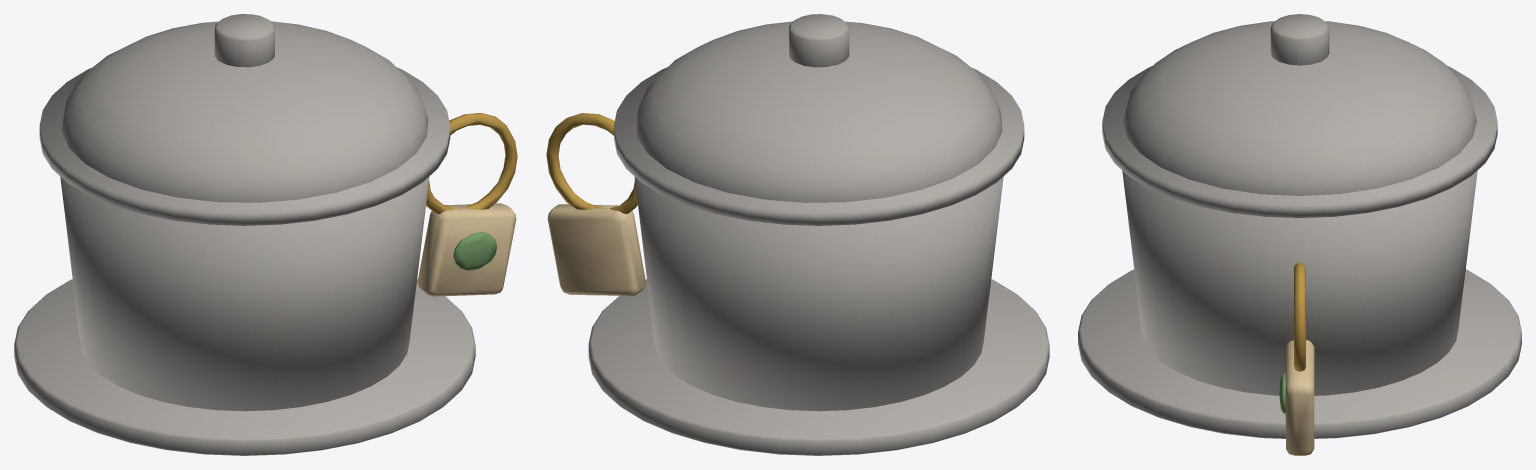
File: keepsake-phin-keychain.glb
3 views of the same model, side by side, from view 1: azimuth 30°, elevation 25°; view 2: azimuth 150°, elevation 25°; view 3: azimuth 270°, elevation 25° (orthographic). The views are drawn at different scales.
Visible parts, largest first — view 1: keepsake-phin-keychain; view 2: keepsake-phin-keychain; view 3: keepsake-phin-keychain.
Part boxes in pixels (x1,y1,x2,y2): keepsake-phin-keychain: (14, 14, 517, 455); keepsake-phin-keychain: (546, 14, 1049, 455); keepsake-phin-keychain: (1078, 14, 1521, 455).
Size of the model in its own units: 0.118 by 0.08 by 0.0999.
Materials: 1 (1 with a texture image).
